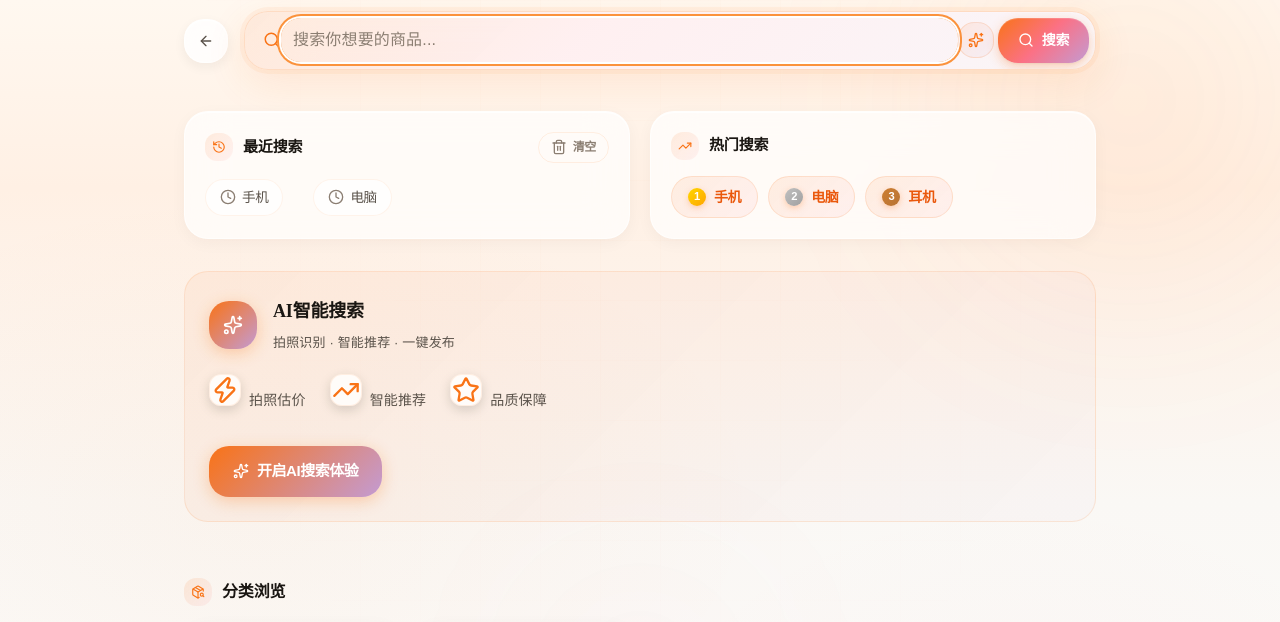
Test case: SearchPage › clears search history
Click the button "清空". click: (573, 147)
box: [538,132,609,163]
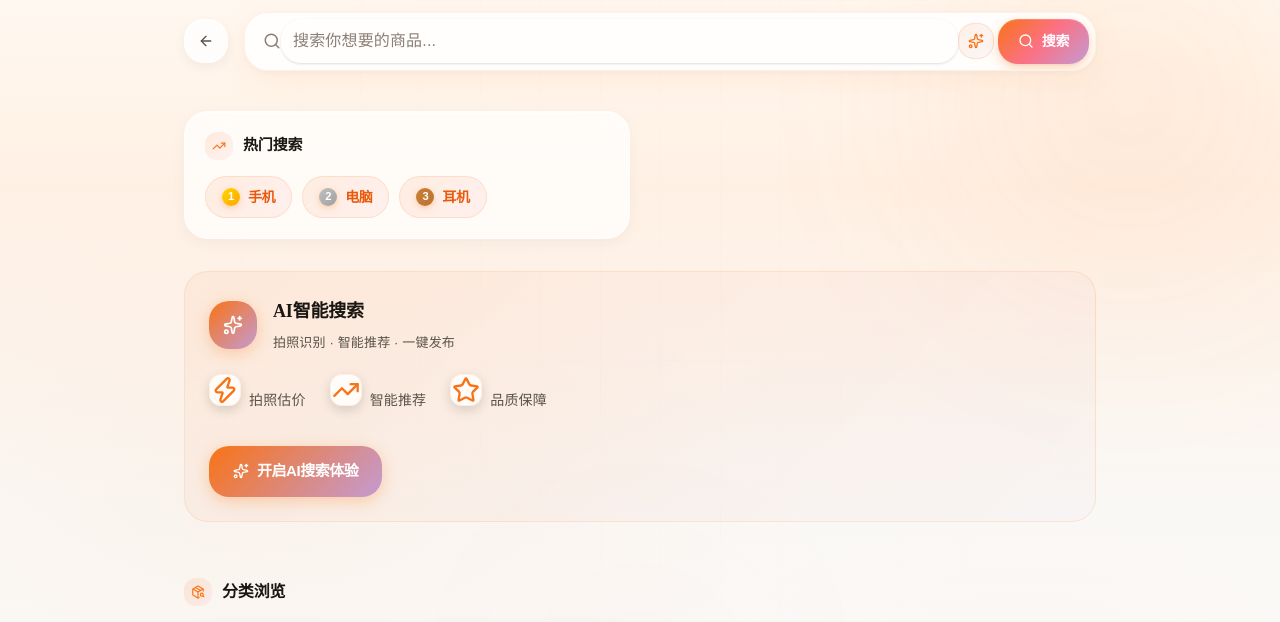
Expected: the heading "最近搜索" is gone
